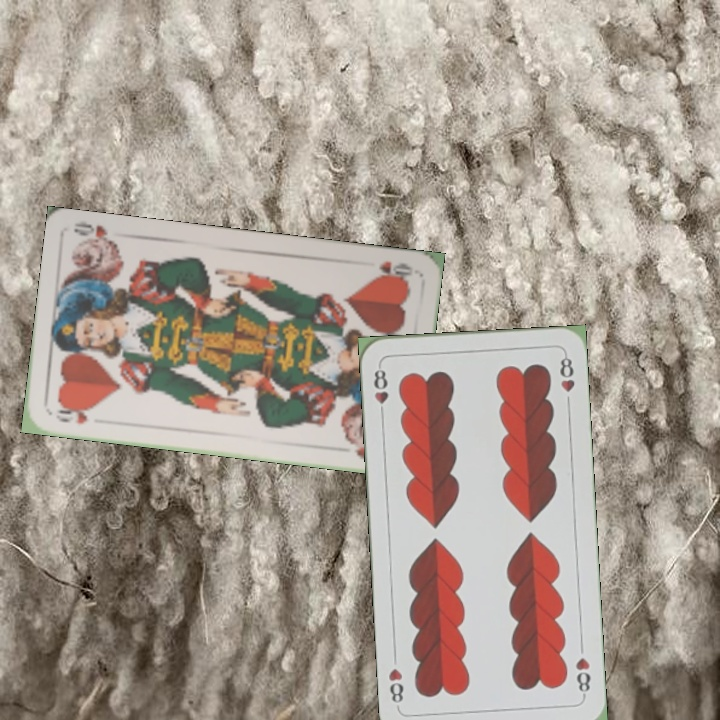H8: (369, 361, 391, 420), (571, 653, 593, 699)
HO: (369, 257, 416, 283), (51, 401, 97, 426)
